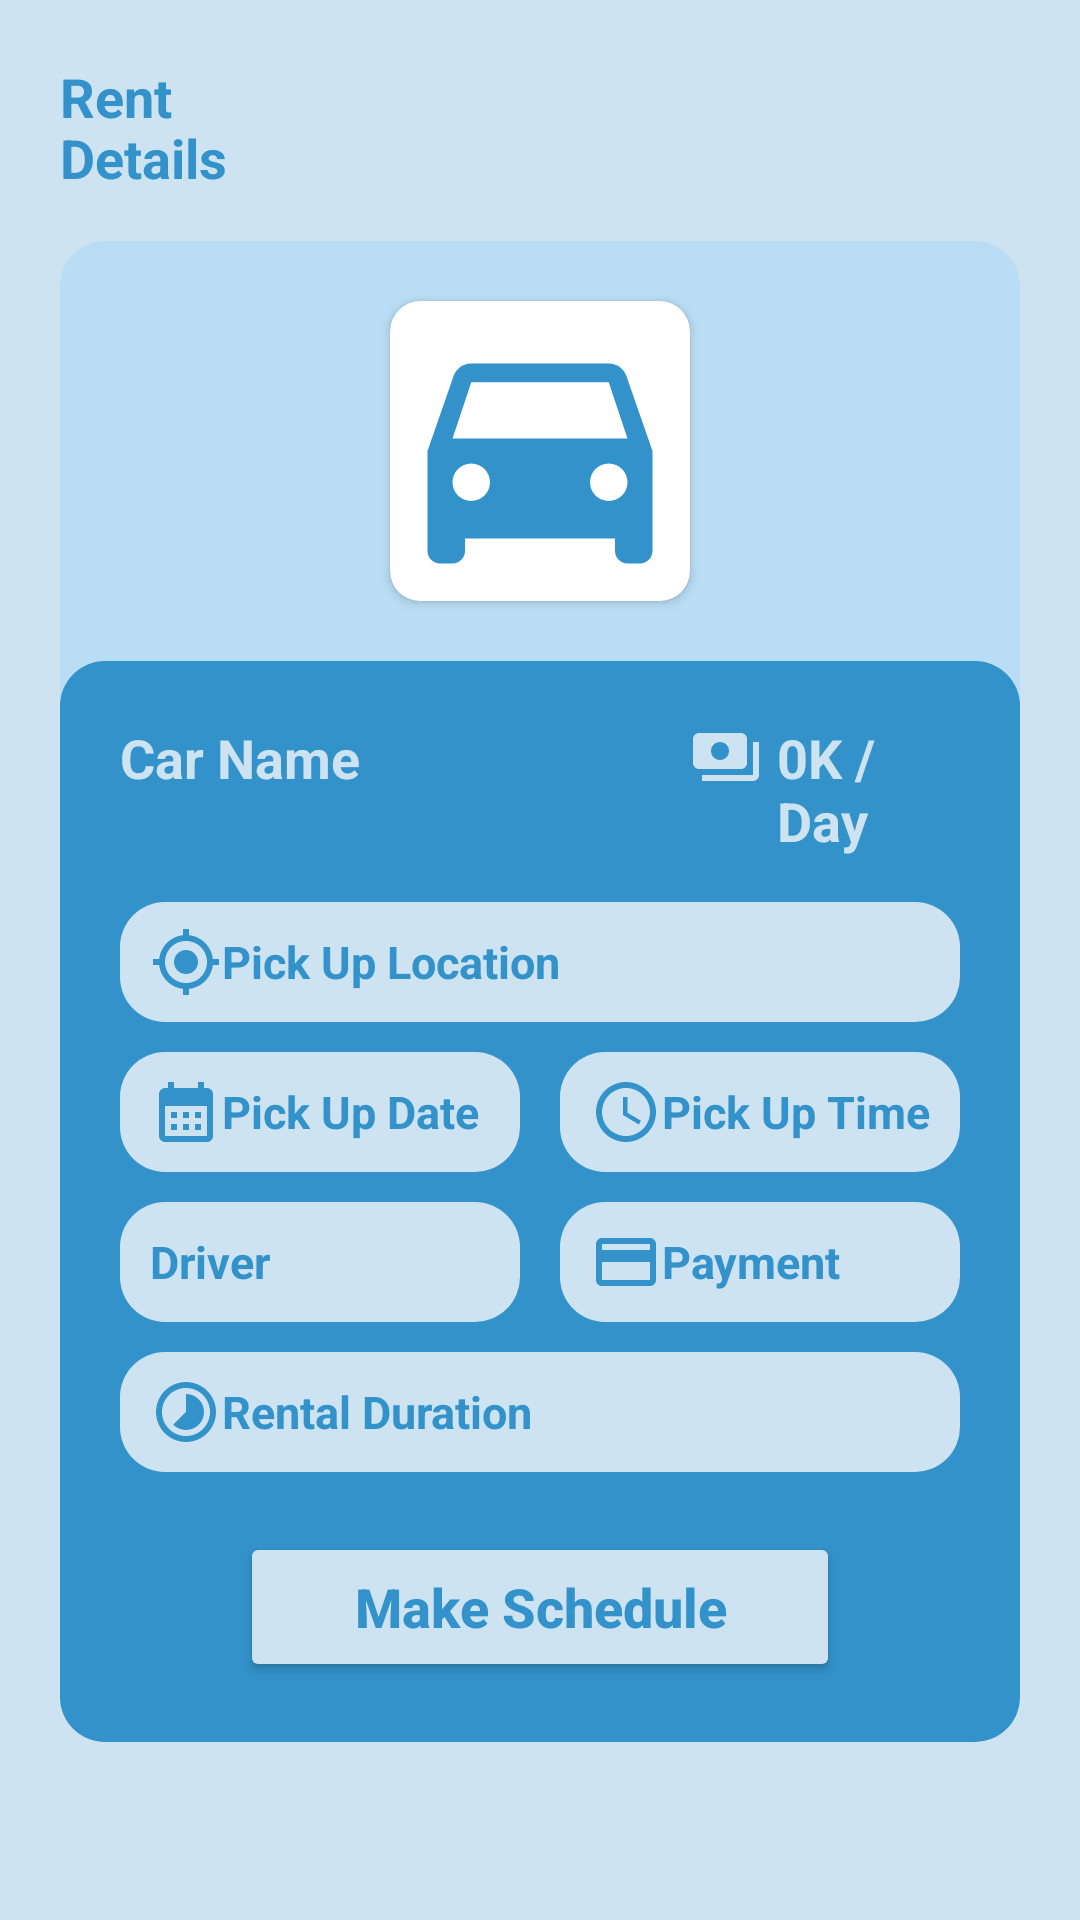

Locate icon controls on the screen. Image size 1080×1920, boxes as bbox=(x1, y1, x2, y2).
directions car: bbox=(390, 301, 690, 601)
payments: bbox=(693, 733, 759, 781)
